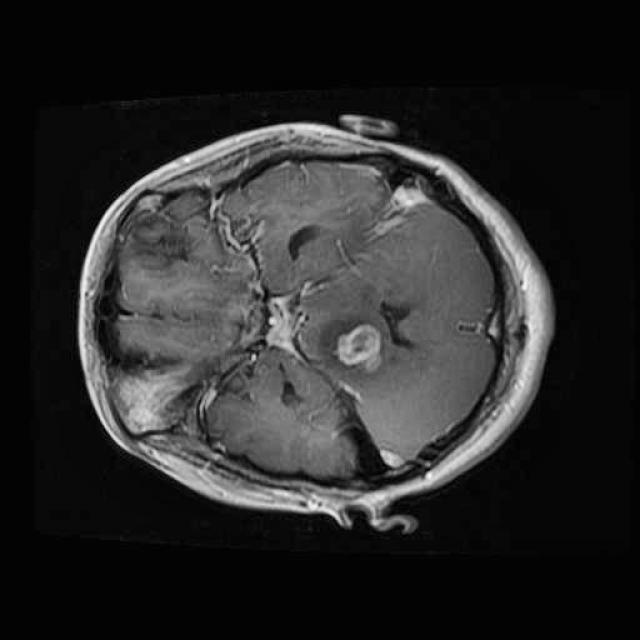Tumor: (314, 306, 396, 384)
